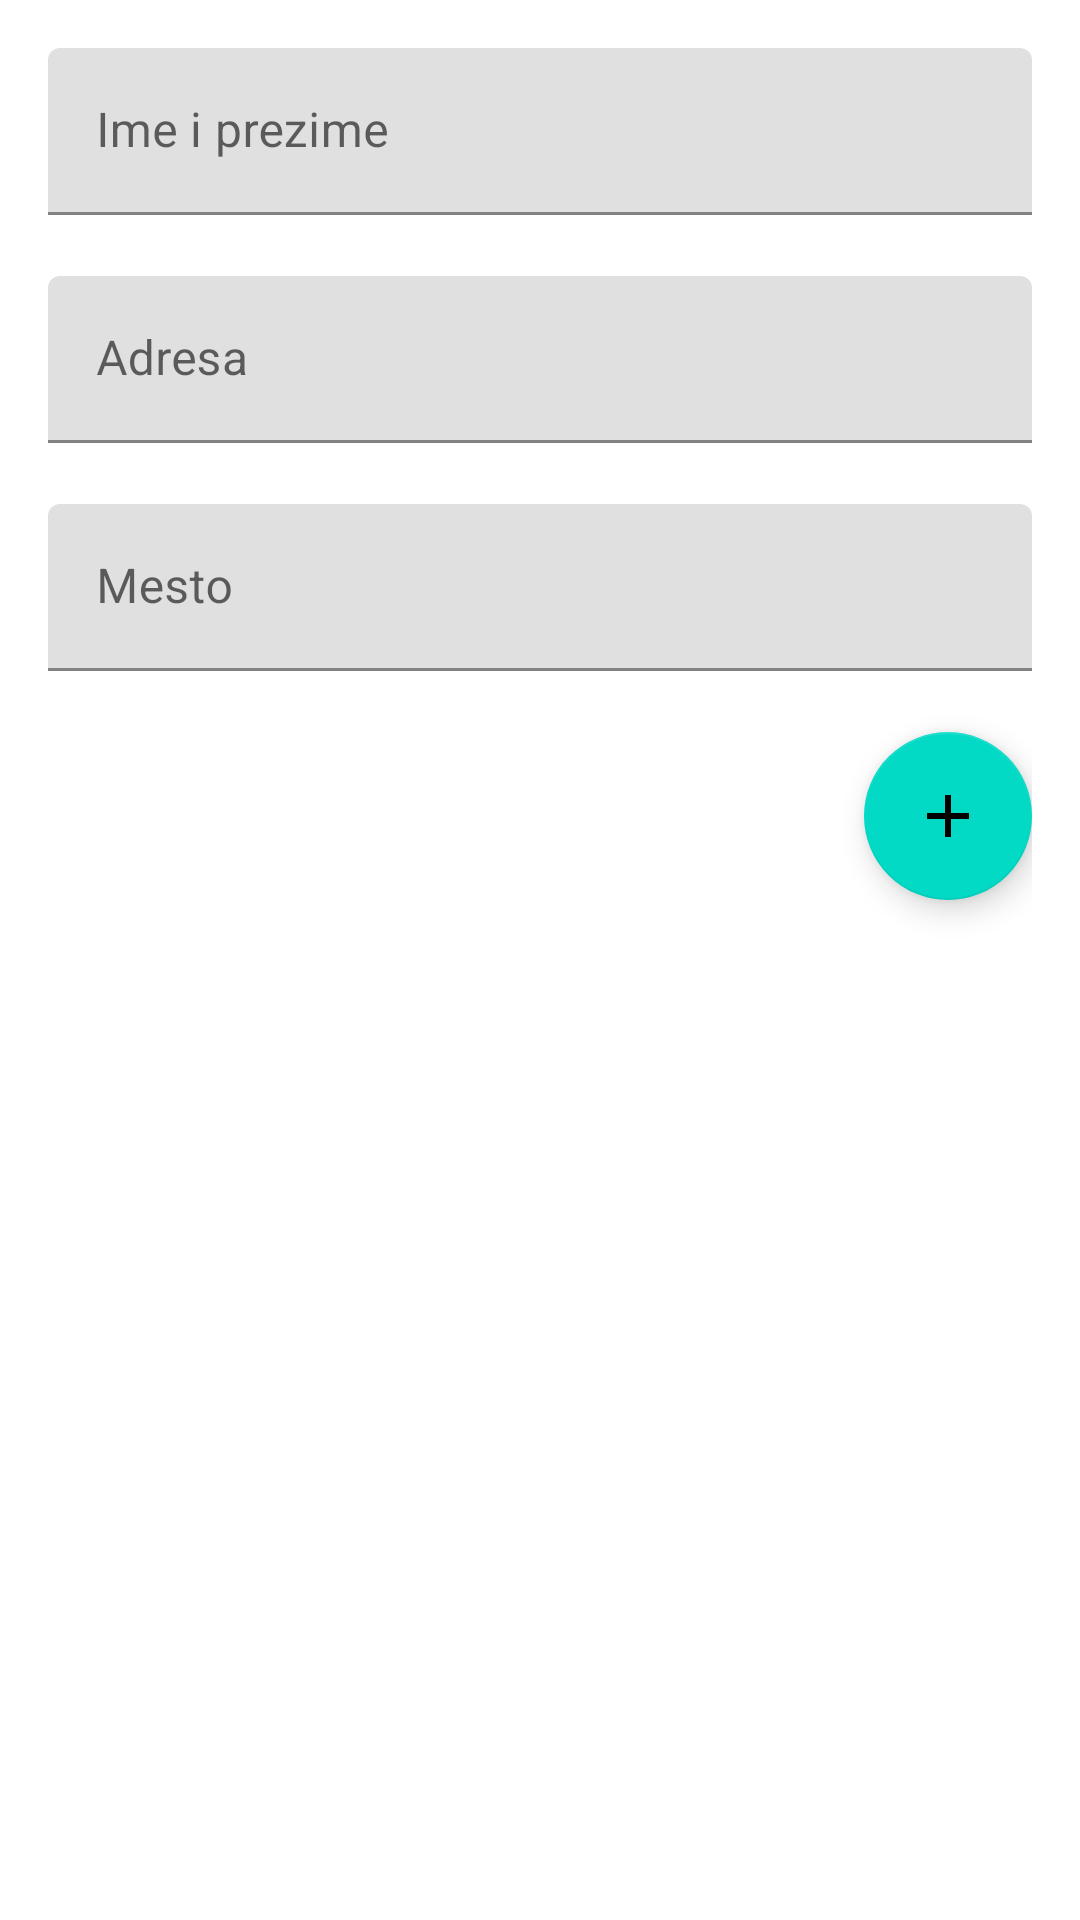

Point at icon controls on the screen. Image size 1080 x 1920, points as (x=x, y=y).
add: (x=948, y=816)
